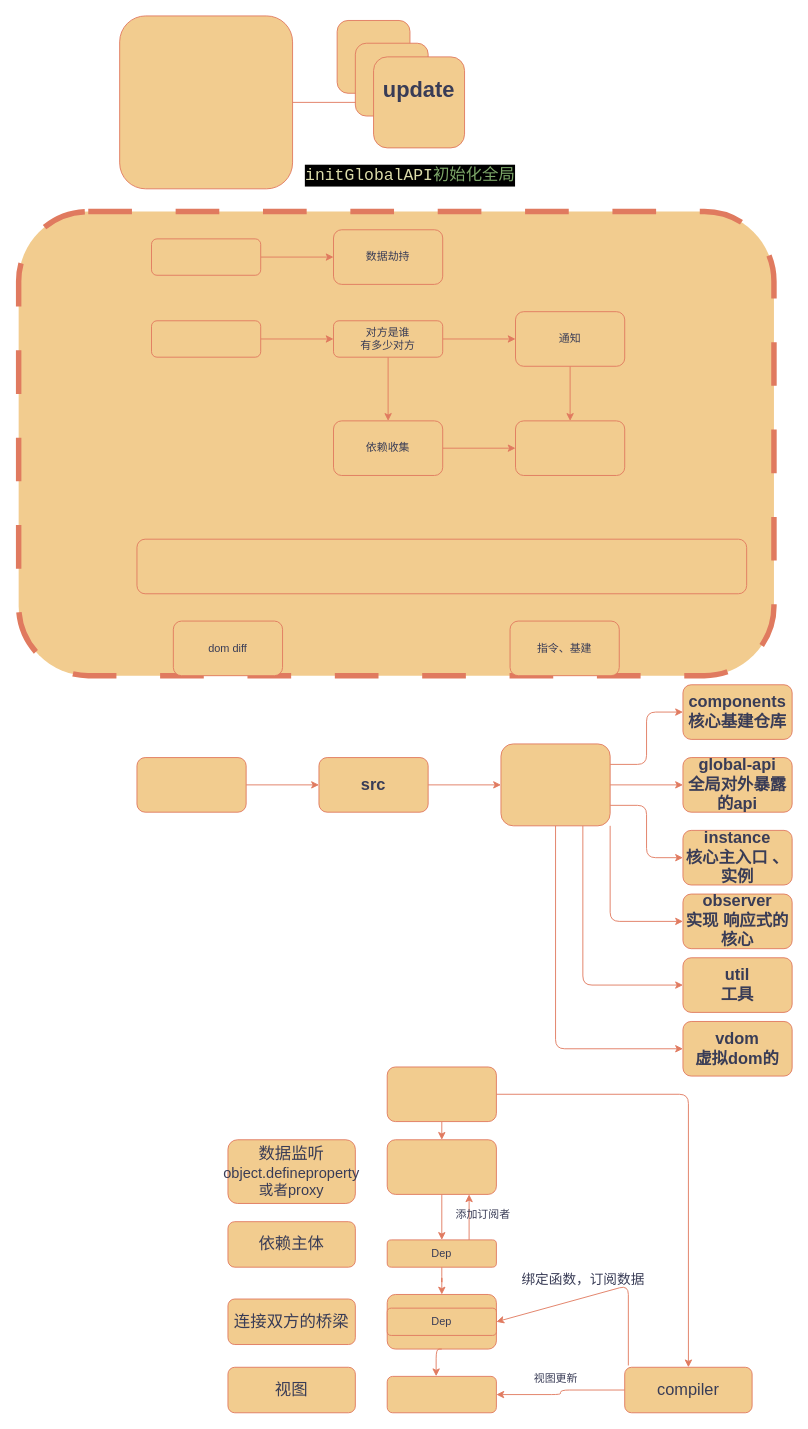
This 808x1429 diagram has some shape labels left out. Here are the shapes that lost their labels. From the top down, the centre of each, then its label:
(206,102): subject add remove notify（）
(206,256): 感知到变化
(206,338): 通知对方
(570,447): 发布更新
(441,566): compile
(191,784): vue2.7
(555,784): core
(441,1094): MVVM
(441,1166): Observer
(441,1394): view
